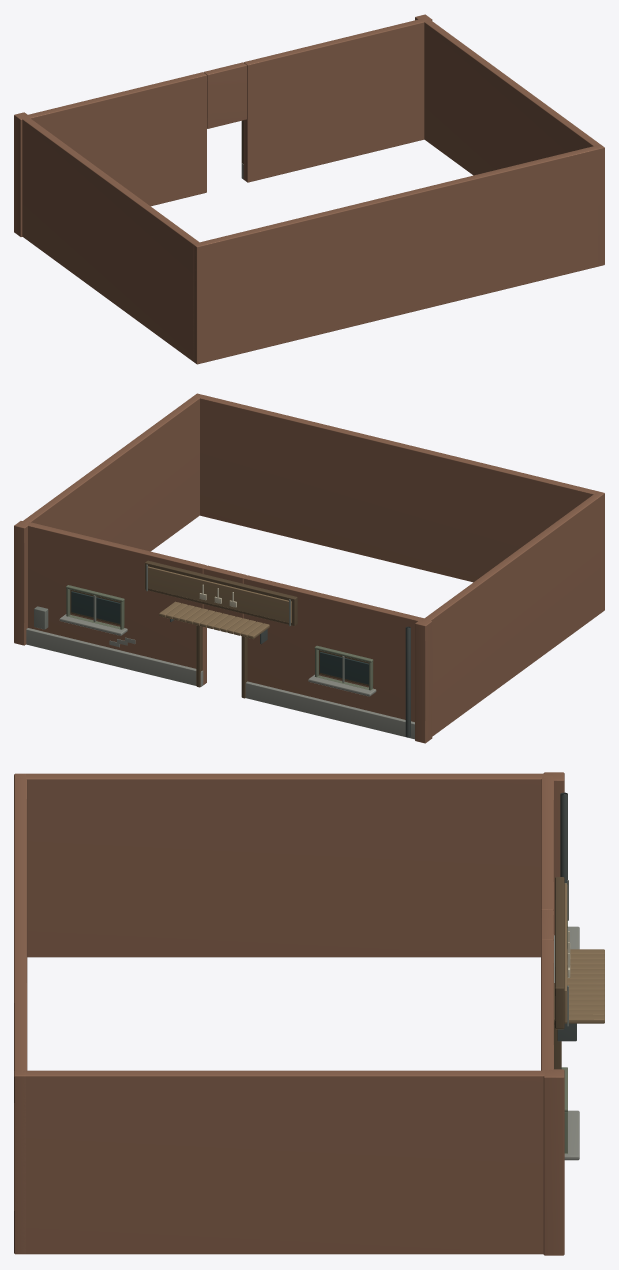
Rendered from Pawnshop_Shell.fbx.
The picture shows the model from 3 angles, top to bottom: view 1: azimuth 30°, elevation 25°; view 2: azimuth 150°, elevation 25°; view 3: azimuth 270°, elevation 25°; orthographic projection. The views are drawn at different scales.
Parts seen in each view (by area): view 1: Pawnshop_Shell; view 2: Pawnshop_Shell; view 3: Pawnshop_Shell.
Boxes of the visible parts, x1,y1,x2,y2 form: Pawnshop_Shell: (14, 14, 604, 364); Pawnshop_Shell: (14, 393, 604, 743); Pawnshop_Shell: (14, 772, 604, 1255).
Bounding box in the file's own units: 1644 × 450 × 1346.
